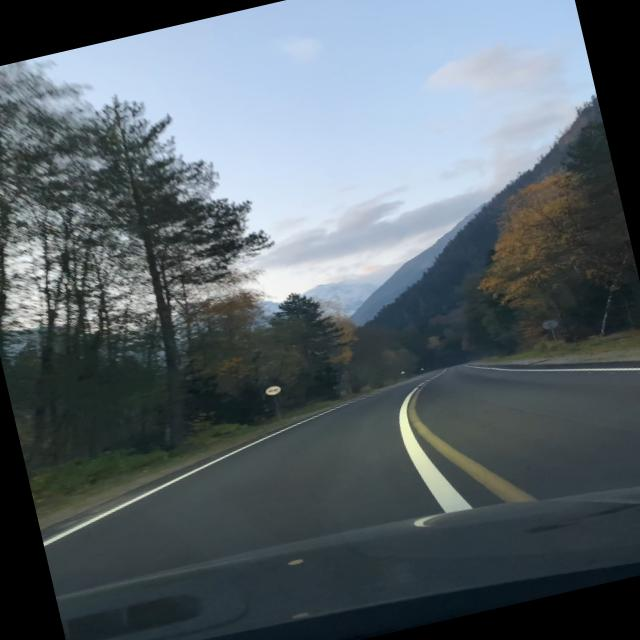asphalt: (40, 361, 640, 596)
grass: (34, 387, 386, 531), (470, 329, 640, 365)
